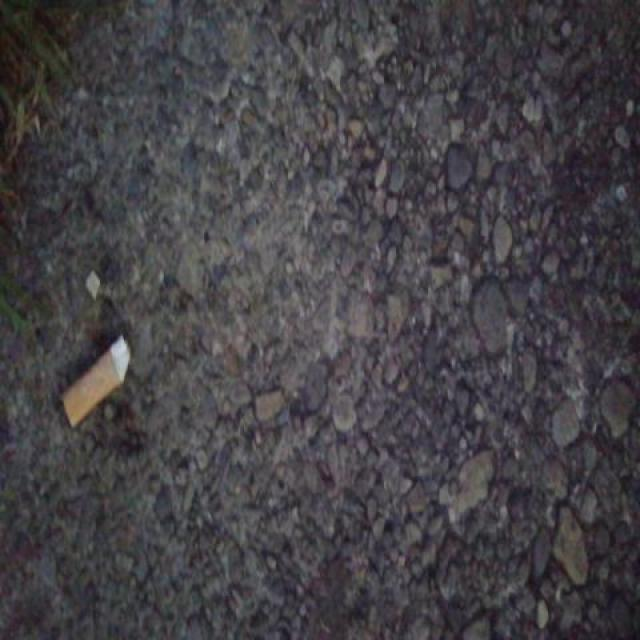non-organic waste: (58, 331, 134, 433)
